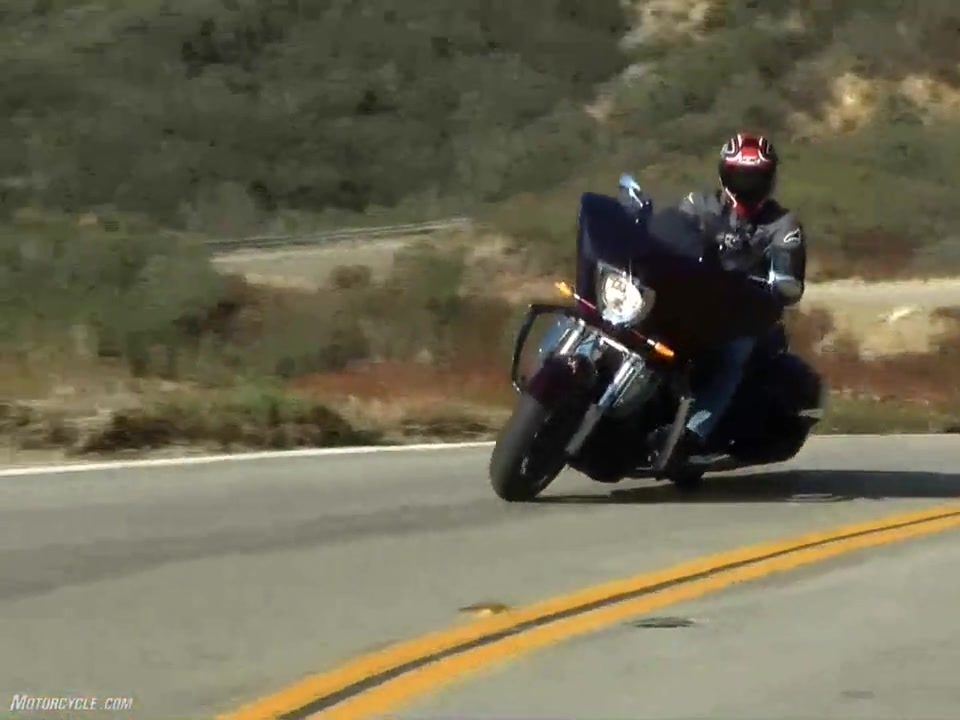motorbike: (485, 169, 829, 506)
